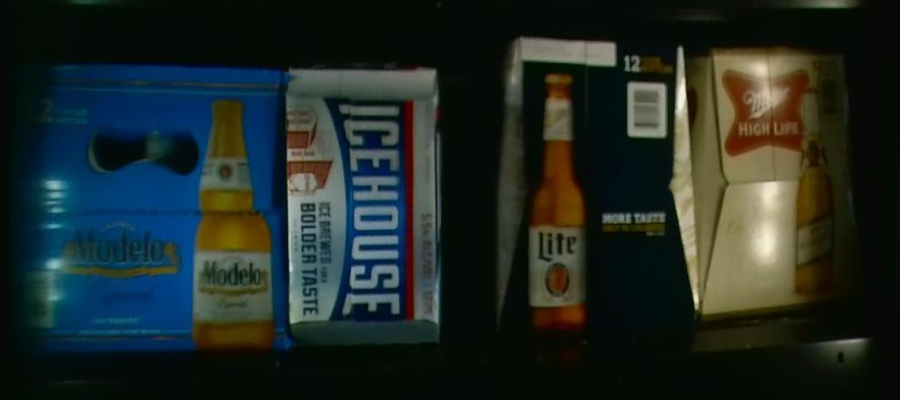bottle: (8, 64, 289, 353), (495, 34, 697, 341), (699, 49, 860, 313), (288, 66, 442, 341)
